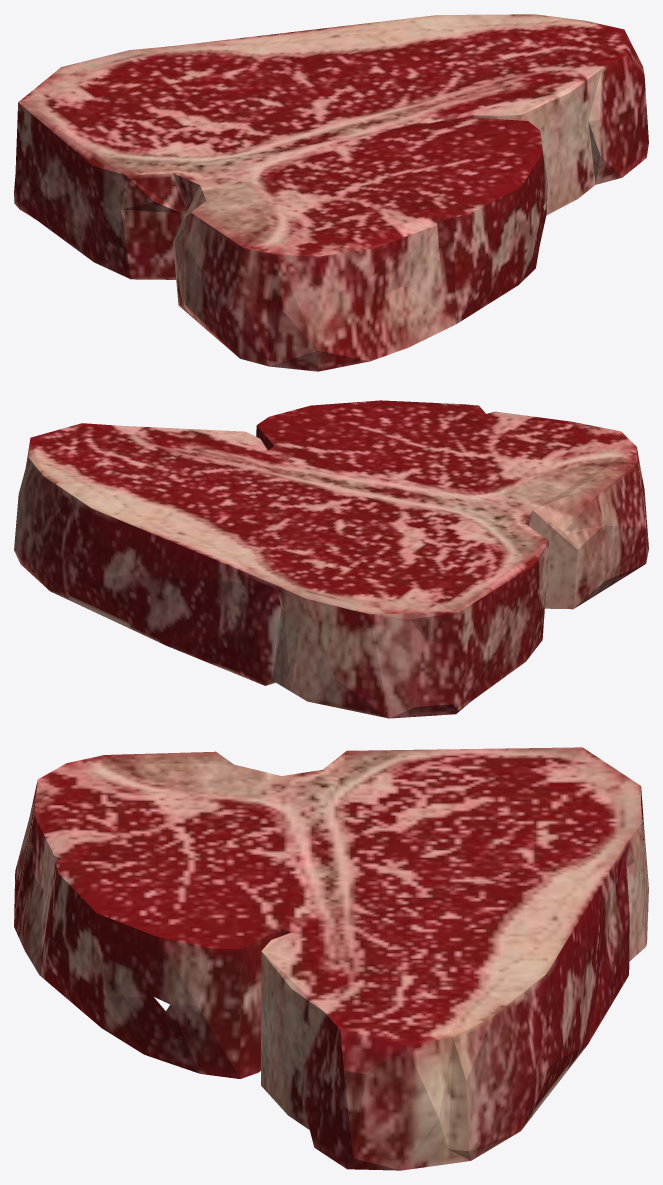
Rendered from res.food_raw_2.ground.glb.
The picture shows the model from 3 angles, top to bottom: view 1: azimuth 30°, elevation 25°; view 2: azimuth 150°, elevation 25°; view 3: azimuth 270°, elevation 25°; orthographic projection. The views are drawn at different scales.
Visible parts, largest first — view 1: body; view 2: body; view 3: body.
Boxes of the visible parts, bbox=[...] form: body: bbox=[14, 14, 648, 371]; body: bbox=[14, 400, 648, 718]; body: bbox=[14, 747, 648, 1170].
Size of the model in its own units: 0.4198 by 0.0849 by 0.3748.
1 material, 1 textured.
